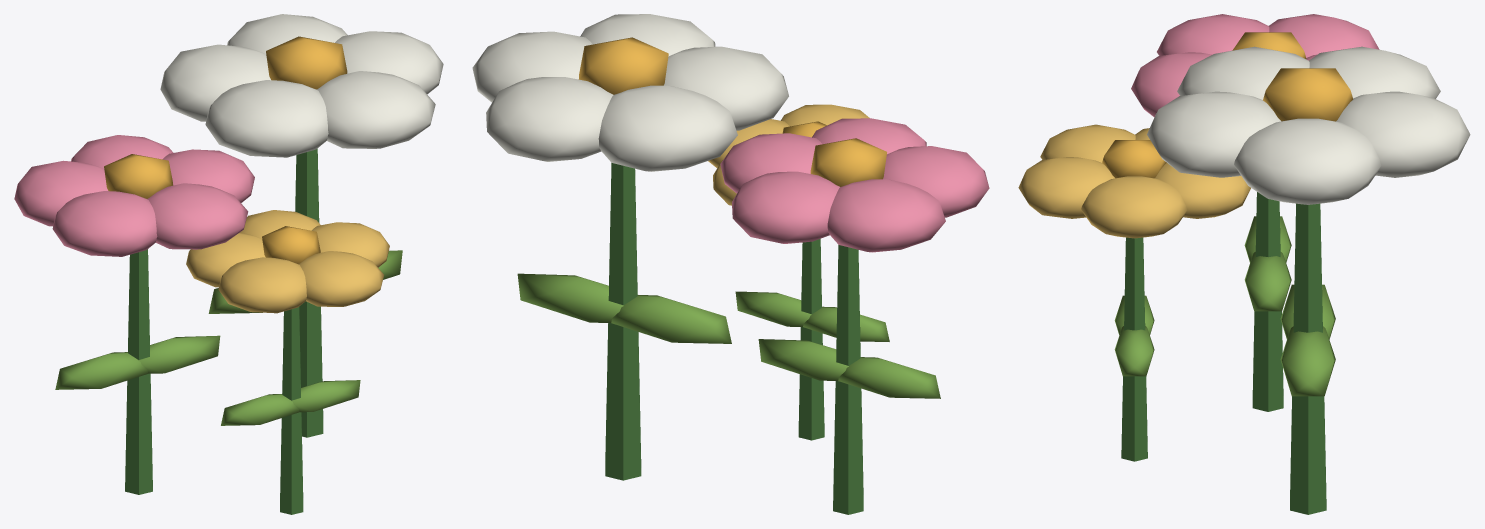
File: flower_mixed_cluster_01.glb
The picture shows the model from 3 angles, left to right: view 1: azimuth 30°, elevation 25°; view 2: azimuth 150°, elevation 25°; view 3: azimuth 270°, elevation 25°; orthographic projection. The views are drawn at different scales.
Parts seen in each view (by area): view 1: flower_mixed_cluster_01; view 2: flower_mixed_cluster_01; view 3: flower_mixed_cluster_01.
Boxes of the visible parts, <box> form: flower_mixed_cluster_01: <box>14,14,443,514</box>; flower_mixed_cluster_01: <box>472,14,989,514</box>; flower_mixed_cluster_01: <box>1018,14,1470,514</box>.
Bounding box in the file's own units: 0.3981 × 0.3611 × 0.3386.
